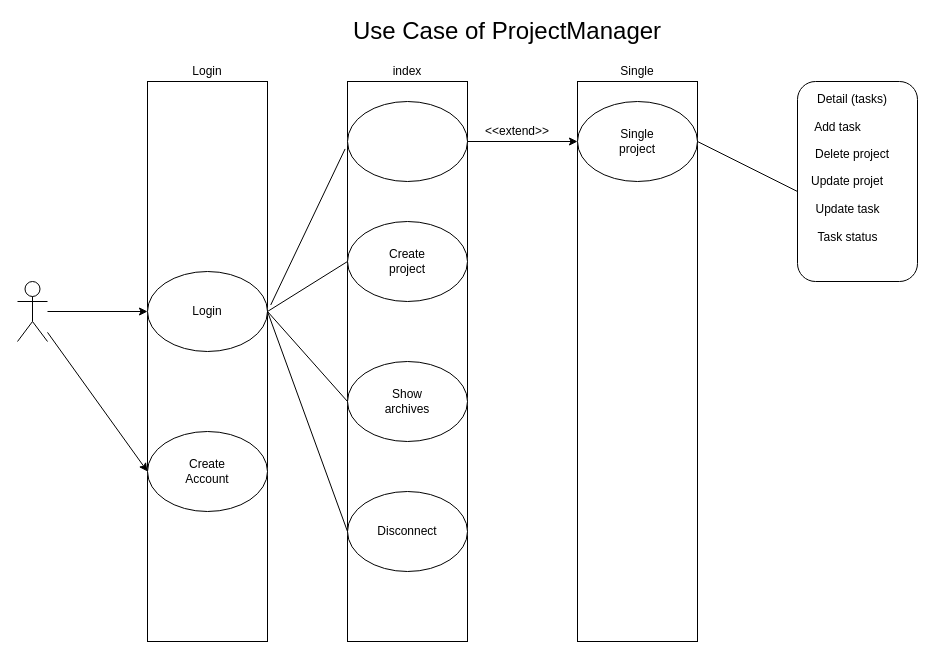
This 935x659 diagram has some shape labels left out. Each missing label, with the box of its shape:
Show Projects: (346, 100, 468, 182)
User: (16, 280, 48, 342)
